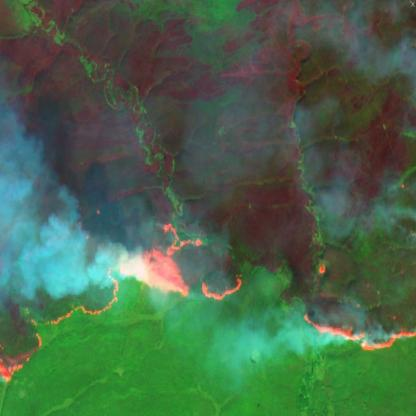fire: (0, 218, 244, 383), (301, 260, 416, 362)
